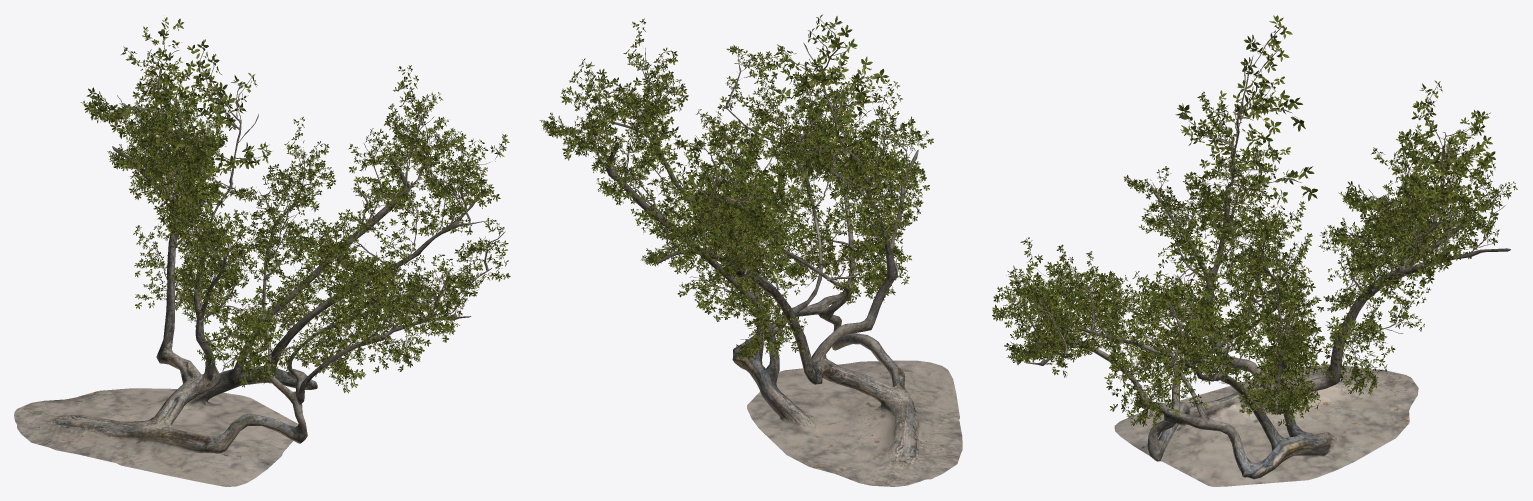
File: island_tree_03_near.gltf
3 views of the same model, side by side, from view 1: azimuth 30°, elevation 25°; view 2: azimuth 150°, elevation 25°; view 3: azimuth 270°, elevation 25° (orthographic). The views are drawn at different scales.
Visible parts, largest first — view 1: island_tree_03_LOD0; view 2: island_tree_03_LOD0; view 3: island_tree_03_LOD0.
Part boxes in pixels (x1,y1,x2,y2): island_tree_03_LOD0: [14, 17, 510, 486]; island_tree_03_LOD0: [539, 14, 962, 486]; island_tree_03_LOD0: [992, 15, 1517, 486].
Size of the model in its own units: 2.97 by 2.62 by 2.92.
Materials: 3 (3 with a texture image).
